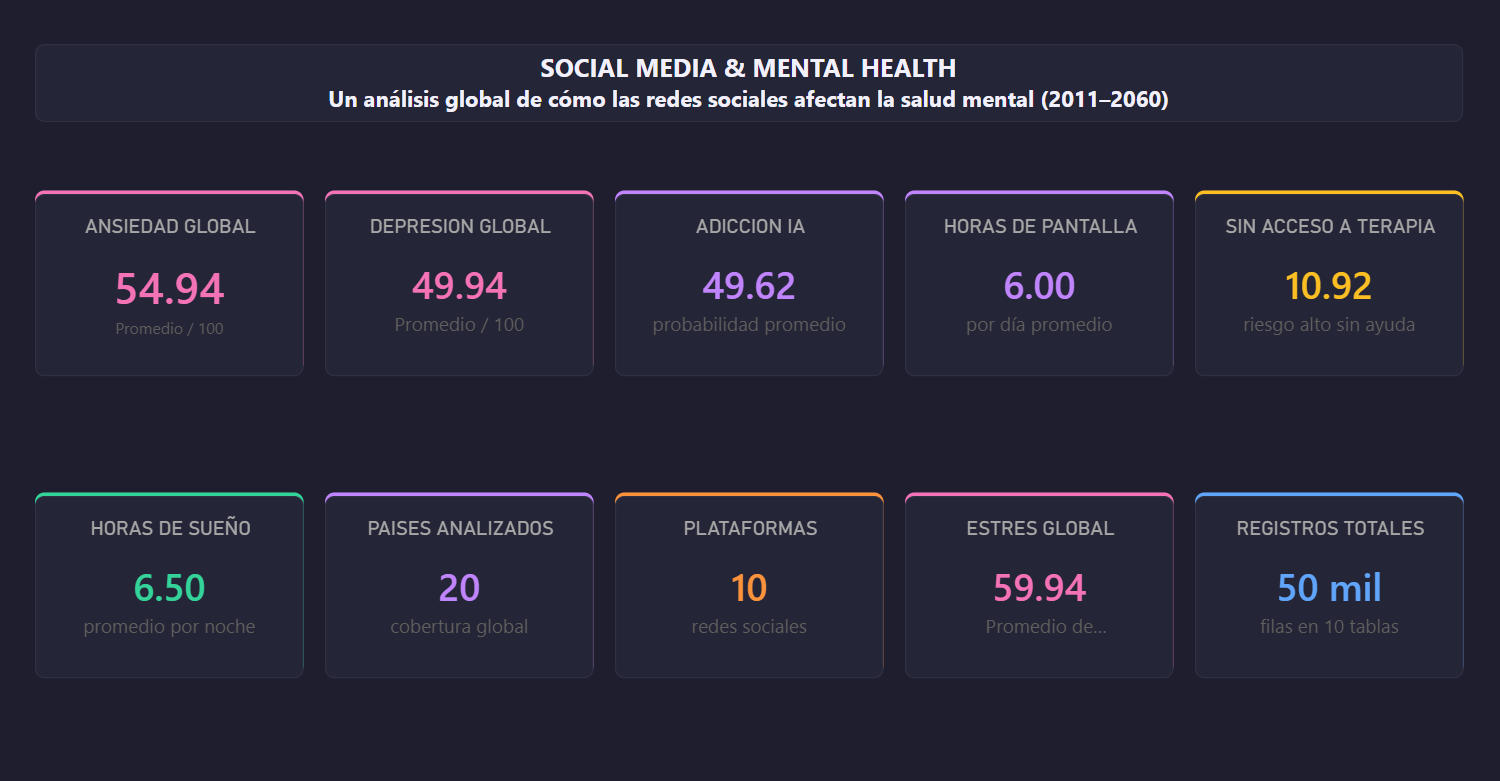

What the dashboard file says about the page in this screenshot:
{"tool":"powerbi","page":{"name":"P1","canvas":[1280,720],"ordinal":0},"visuals":[{"type":"cardVisual","title":"ANSIEDAD GLOBAL","fields":{"Data":["Avg(ANALISIS09.kpi_avg_anxiety)"]},"box":[33,172,227.1,154.3],"z":0},{"type":"shape","box":[33,46,1207,66],"z":1000},{"type":"textbox","box":[33,46,1207,66],"z":2000},{"type":"cardVisual","title":"DEPRESION GLOBAL","fields":{"Data":["Sum(ANALISIS09.kpi_avg_depression)"]},"box":[278,172,227.1,154.3],"z":3000},{"type":"cardVisual","title":"ADICCION IA","fields":{"Data":["Sum(ANALISIS09.kpi_avg_ai_addiction_pct)"]},"box":[523,172,227.1,154.3],"z":4000},{"type":"cardVisual","title":"HORAS DE PANTALLA","fields":{"Data":["Sum(ANALISIS09.kpi_avg_screen_hours)"]},"box":[768,172,227.1,154.3],"z":5000},{"type":"cardVisual","title":"SIN ACCESO A TERAPIA","fields":{"Data":["Sum(ANALISIS09.kpi_treatment_gap_pct)"]},"box":[1013,172,227.1,154.3],"z":6000},{"type":"cardVisual","title":"HORAS DE SUEÑO","fields":{"Data":["Avg(ANALISIS09.kpi_avg_sleep_hours)"]},"box":[33,427.7,227.1,154.3],"z":7000},{"type":"cardVisual","title":"PAISES ANALIZADOS","fields":{"Data":["Sum(ANALISIS09.kpi_total_countries)"]},"box":[278,427.7,227.1,154.3],"z":8000},{"type":"cardVisual","title":"PLATAFORMAS","fields":{"Data":["Sum(ANALISIS09.kpi_total_platforms)"]},"box":[523,427.7,227.1,154.3],"z":9000},{"type":"cardVisual","title":"ESTRES GLOBAL","fields":{"Data":["Avg(ANALISIS09.kpi_avg_stress)"]},"box":[768,427.7,227.1,154.3],"z":10000},{"type":"cardVisual","title":"REGISTROS TOTALES","fields":{"Data":["Sum(ANALISIS09.kpi_total_records)"]},"box":[1013,427.7,227.1,154.3],"z":11000}]}

Visuals, with their boxes on the page's 1280x720 design canvas (x1, y1, x2, y2). These are canvas units, not pixel positions in the 1500x781 screenshot, which may show the page scaled, cropped or inside an application window:
"ANSIEDAD GLOBAL" cardVisual: 33 172 260 326
shape: 33 46 1240 112
textbox: 33 46 1240 112
"DEPRESION GLOBAL" cardVisual: 278 172 505 326
"ADICCION IA" cardVisual: 523 172 750 326
"HORAS DE PANTALLA" cardVisual: 768 172 995 326
"SIN ACCESO A TERAPIA" cardVisual: 1013 172 1240 326
"HORAS DE SUEÑO" cardVisual: 33 428 260 582
"PAISES ANALIZADOS" cardVisual: 278 428 505 582
"PLATAFORMAS" cardVisual: 523 428 750 582
"ESTRES GLOBAL" cardVisual: 768 428 995 582
"REGISTROS TOTALES" cardVisual: 1013 428 1240 582
